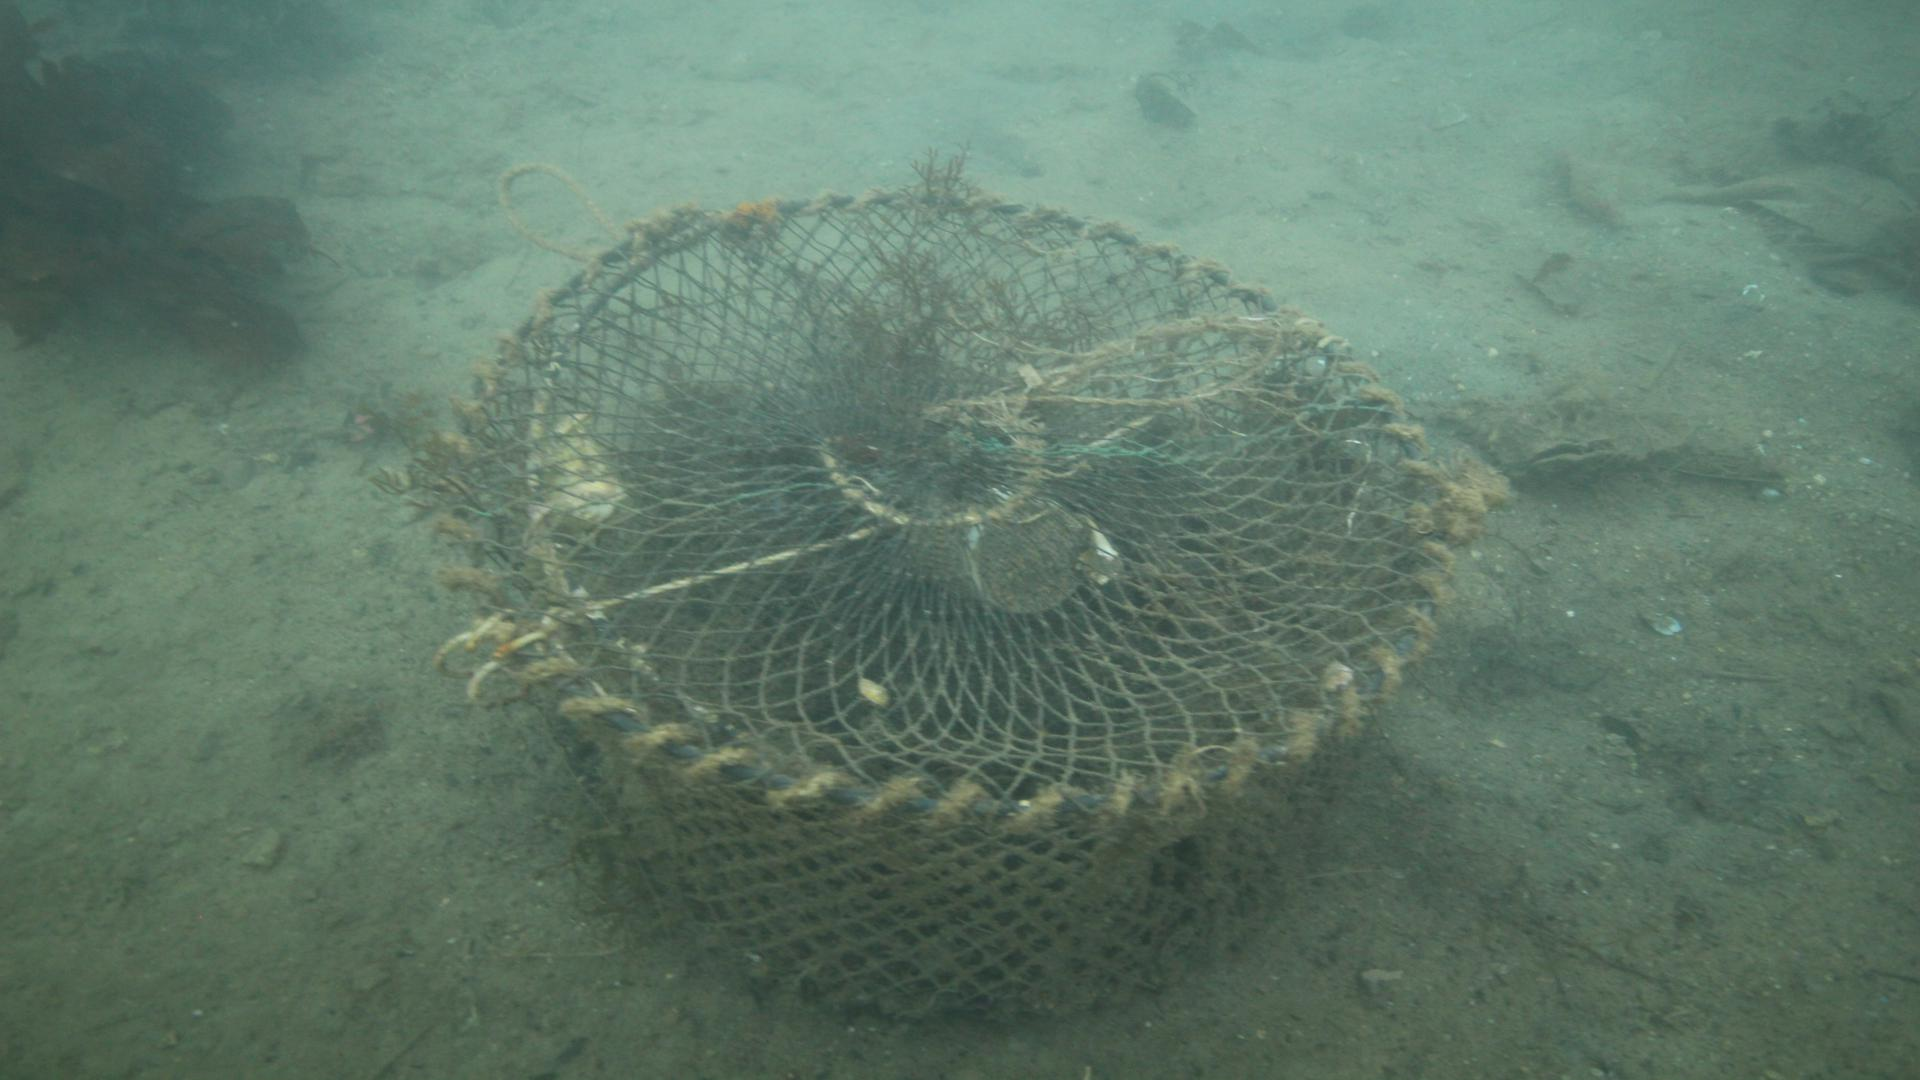circular fish trap: (433, 181, 1455, 1025)
rope: (493, 160, 607, 257)
